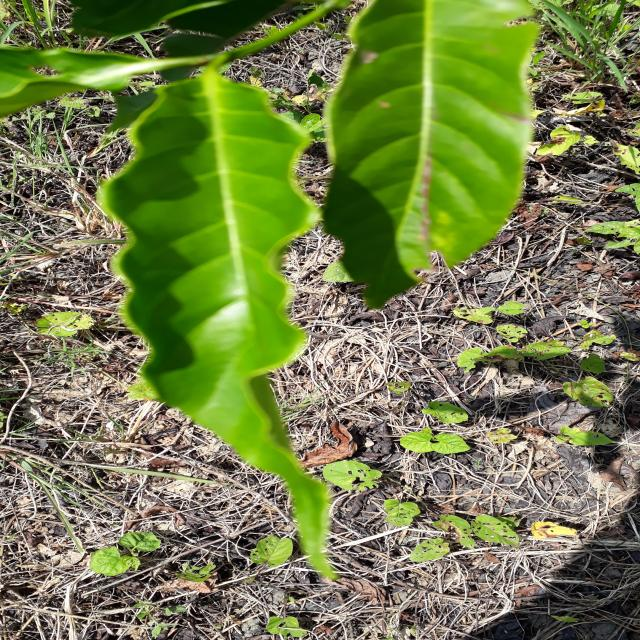Sanas: (95, 78, 335, 582)
